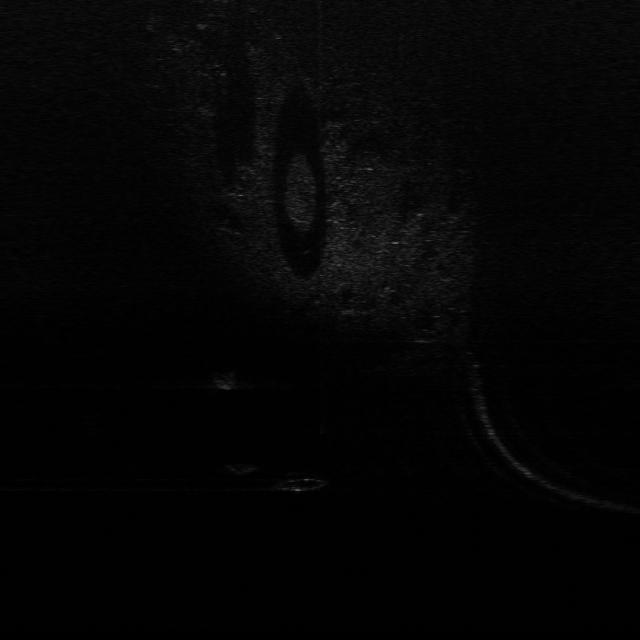cube: (220, 459, 260, 476)
square cage: (206, 368, 240, 392)
tyre: (271, 470, 327, 496)
